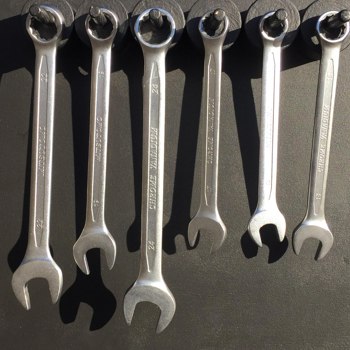bottom: (121, 279, 179, 336), (8, 254, 64, 312), (70, 227, 118, 278), (184, 209, 228, 257), (291, 219, 335, 262), (245, 205, 287, 250)
top: (132, 5, 177, 52), (23, 4, 66, 46), (84, 5, 121, 46), (312, 7, 350, 46), (196, 7, 233, 43), (258, 8, 290, 44)
